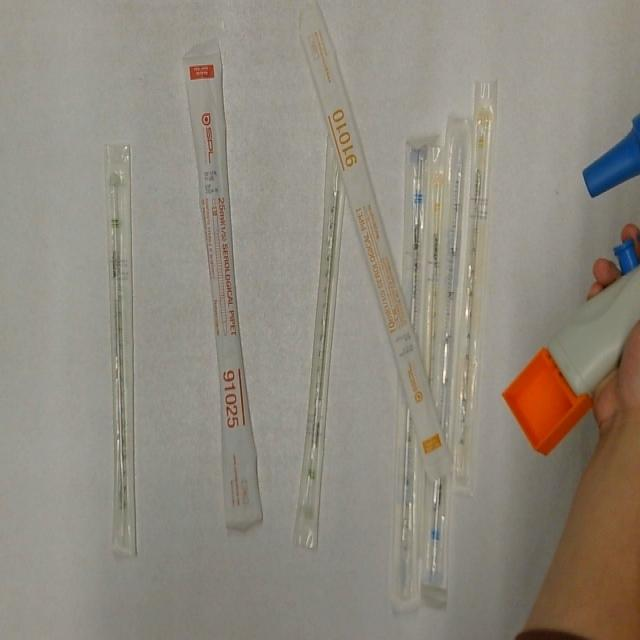Pipette Controller: (498, 89, 640, 458)
Serelogical Pipet 1 mL - Sealed: (448, 78, 498, 485), (417, 144, 454, 396)
Serelogical Pipet 10 mL - Sealed: (296, 0, 458, 482)
Serelogical Pipet 2 mL - Sealed: (289, 126, 355, 553), (104, 139, 140, 563)
Serelogical Pipet 25 mL - Sealed: (182, 35, 279, 534)
Serelogical Pipet 5 mL - Sealed: (387, 127, 430, 611), (422, 116, 452, 605)
